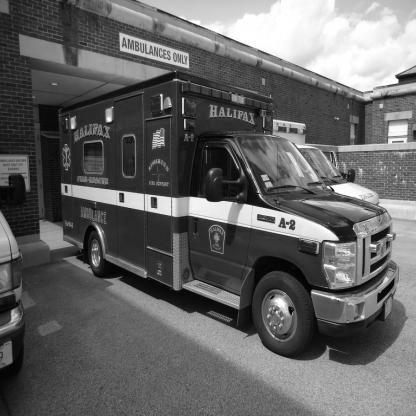ambulance: (36, 68, 406, 381)
